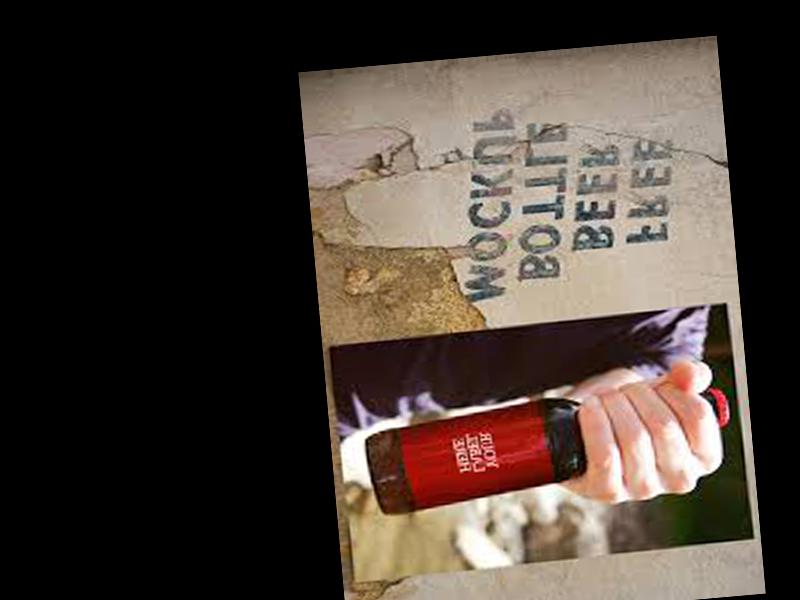Beer: (362, 386, 735, 517)
